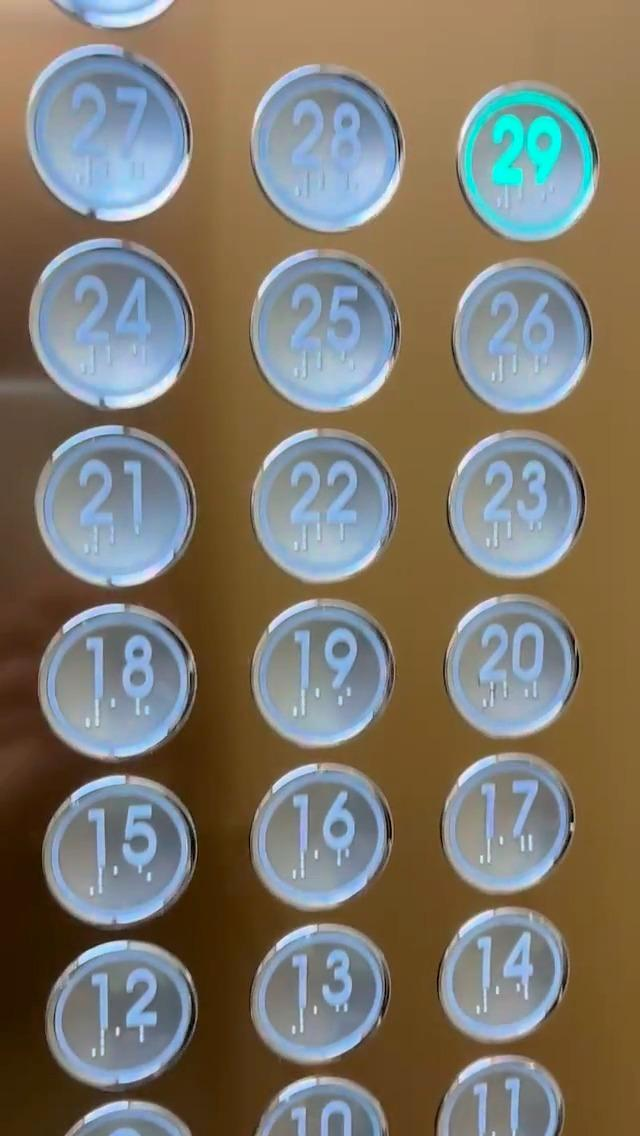button: (26, 47, 196, 230), (20, 243, 190, 420), (449, 80, 621, 246), (440, 246, 586, 427), (37, 433, 196, 594), (257, 54, 403, 227), (263, 249, 407, 420), (247, 436, 399, 594), (30, 950, 200, 1090), (36, 614, 200, 750), (441, 600, 586, 747), (37, 790, 197, 923), (447, 433, 586, 583), (254, 930, 393, 1074), (249, 614, 396, 749), (246, 771, 384, 913), (450, 757, 581, 896), (447, 907, 567, 1050), (443, 1067, 603, 1136)
